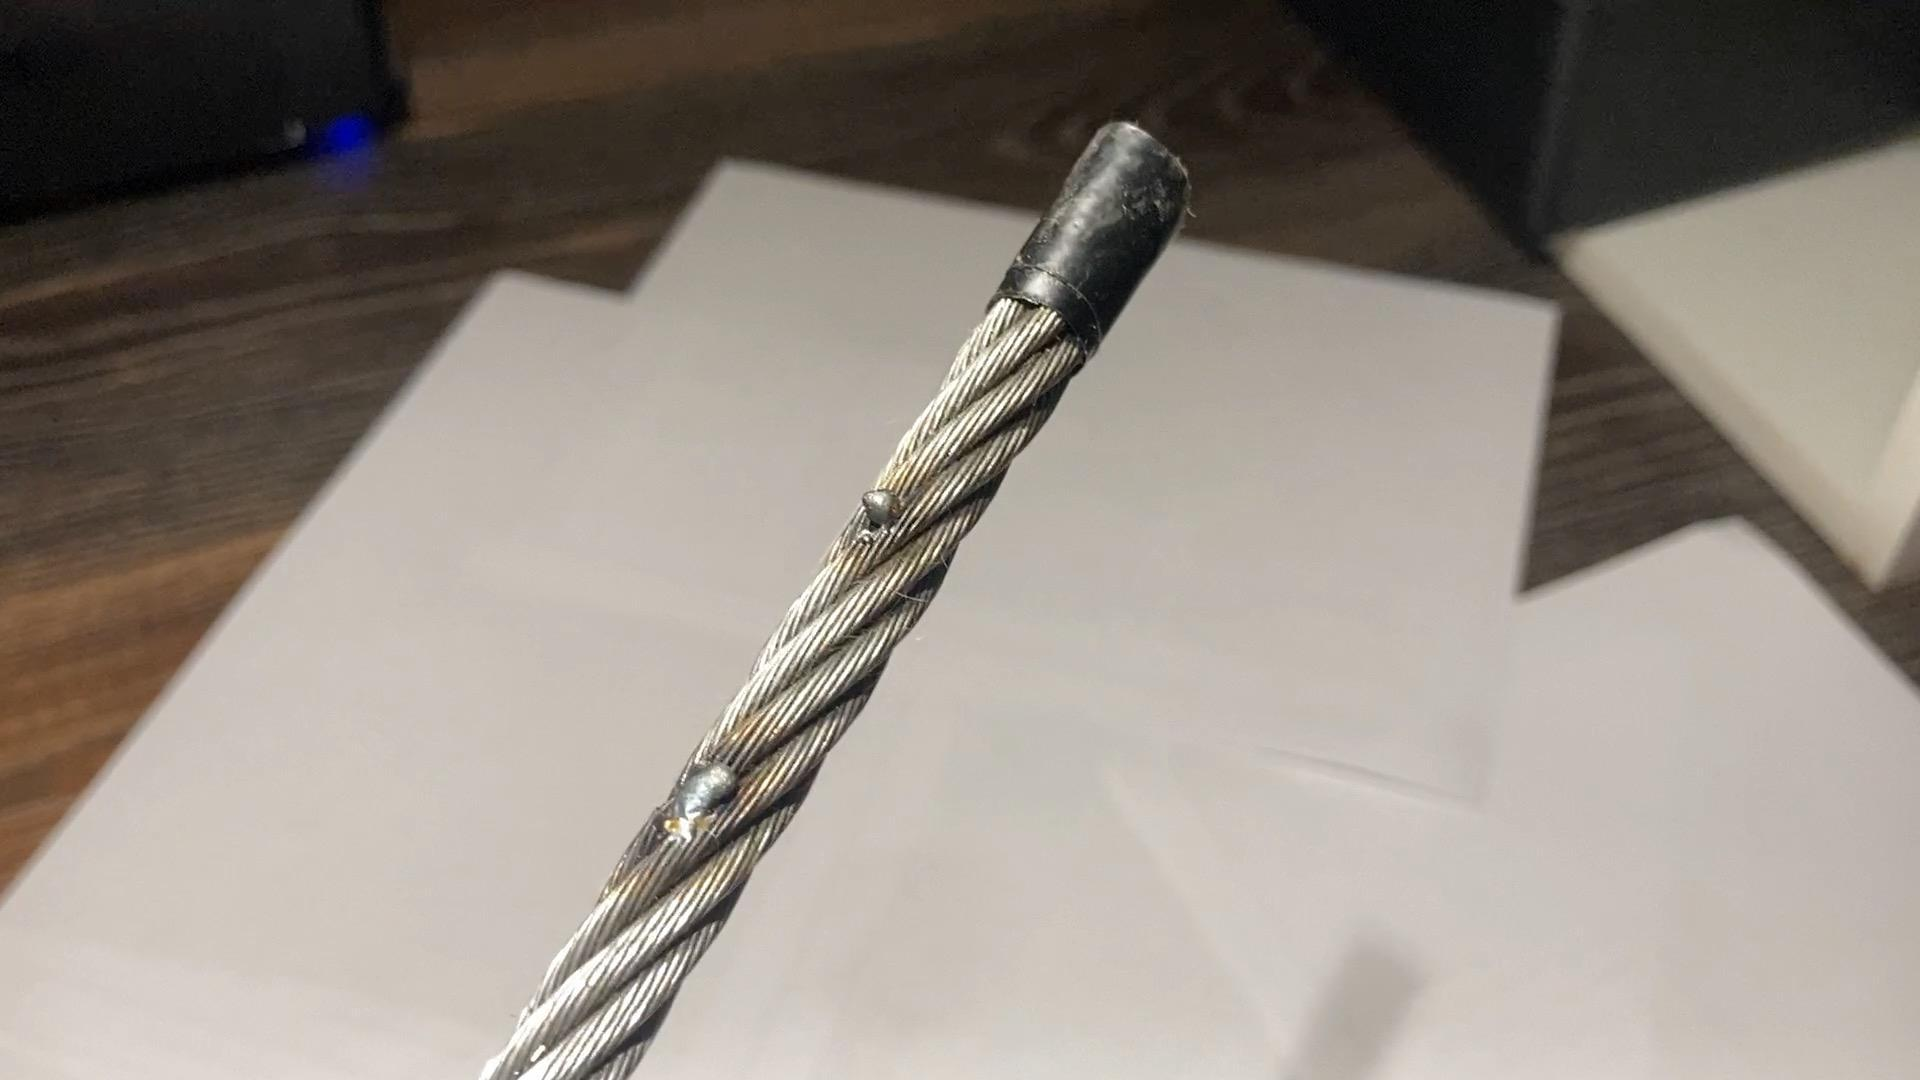thunderbolt: (658, 737, 754, 833), (851, 473, 923, 543)
